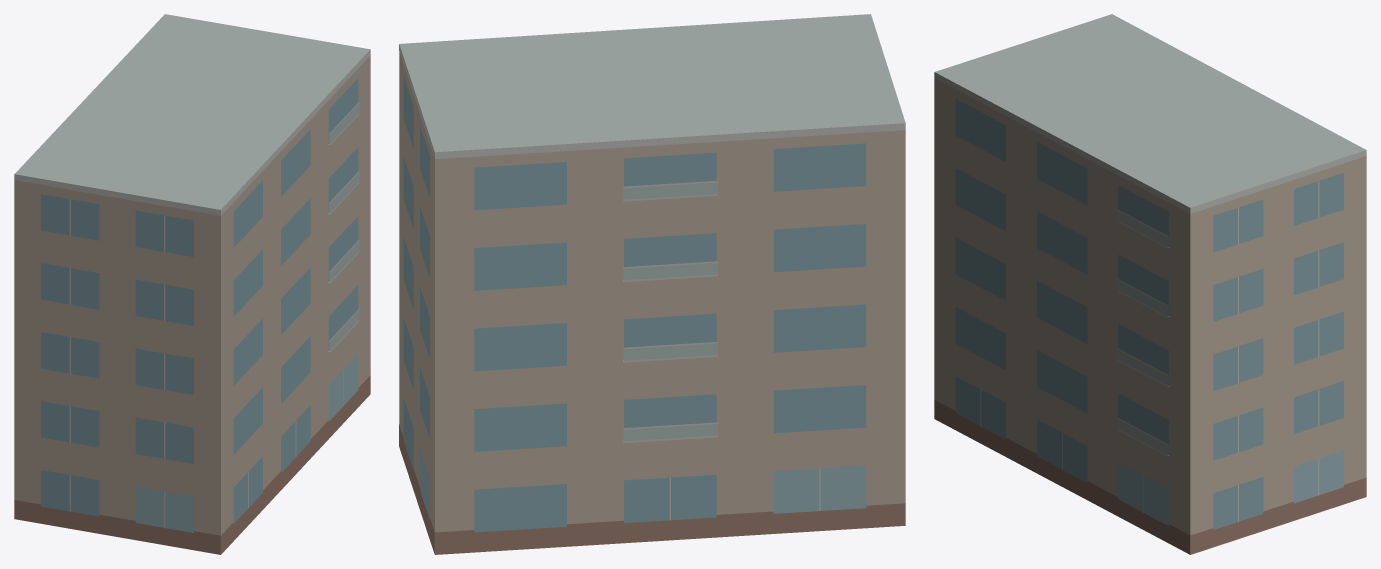
The model's file is survey-upis-33039218.glb.
3 renders of one model, left to right at view 1: azimuth 30°, elevation 25°; view 2: azimuth 150°, elevation 25°; view 3: azimuth 270°, elevation 25°, orthographic. The views are drawn at different scales.
Parts seen in each view (by area): view 1: survey-upis-33039218.tmp; view 2: survey-upis-33039218.tmp; view 3: survey-upis-33039218.tmp.
Part boxes in pixels (x1,y1,x2,y2): survey-upis-33039218.tmp: (14,14,370,554); survey-upis-33039218.tmp: (399,14,905,554); survey-upis-33039218.tmp: (934,14,1366,554).
Bounding box in the file's own units: 16.91 × 14.1 × 15.92.
